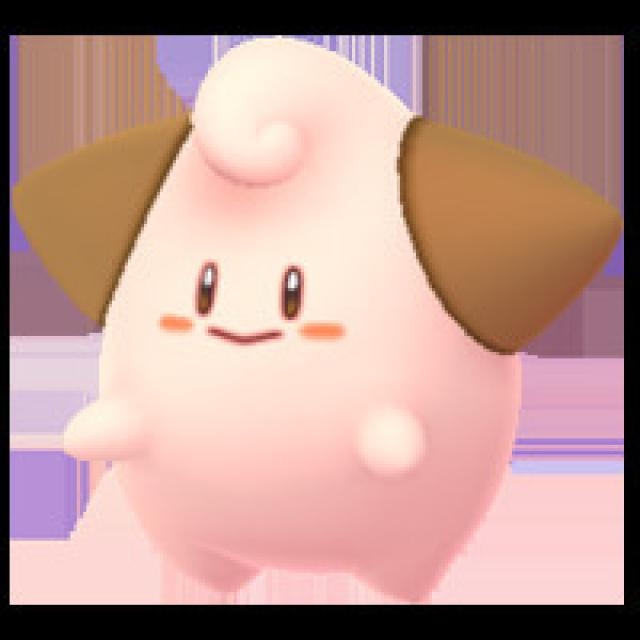Clefairy: (18, 40, 631, 601)
